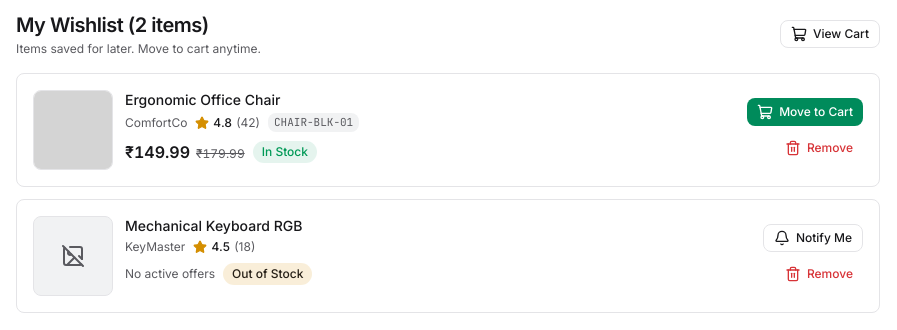
Test: Customer Wishlist Frontend Experience › 5. Handles Remove item flow on Wishlist Page
Expected: the link "Ergonomic Office Chair" is shown, [125, 91, 280, 108]
Click the button "Remove" in the row of "In Stock" at (819, 148), box [775, 134, 863, 162]
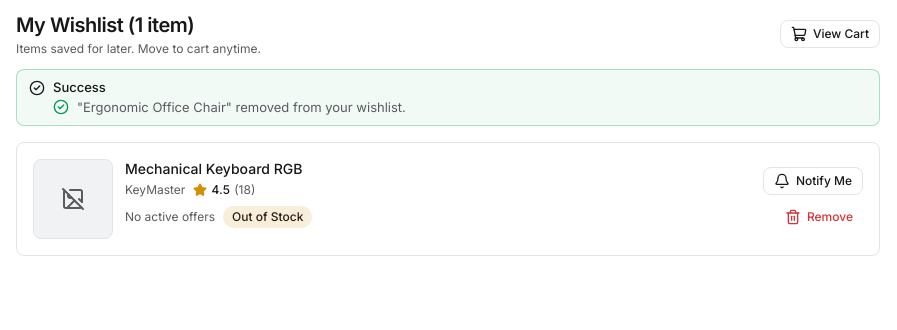
Result: the text "\"Ergonomic Office Chair\" removed from your wishlist." is shown at [77, 98, 406, 117]
